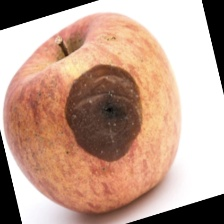apple: (50, 7, 202, 199)
